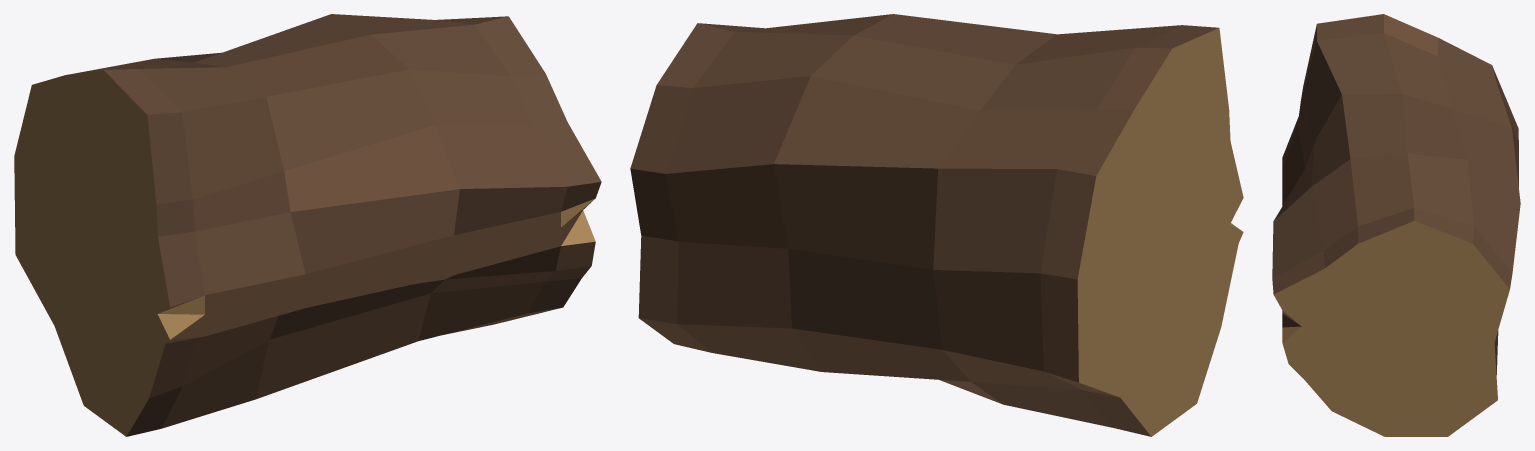
Rendered from rootfall-center.glb.
3 views of the same model, side by side, from view 1: azimuth 30°, elevation 25°; view 2: azimuth 150°, elevation 25°; view 3: azimuth 270°, elevation 25° (orthographic). The views are drawn at different scales.
Parts seen in each view (by area): view 1: rootfall-center; view 2: rootfall-center; view 3: rootfall-center.
Part boxes in pixels (left/top/right/bottom): rootfall-center: left=14, top=14, right=601, bottom=436; rootfall-center: left=630, top=14, right=1243, bottom=436; rootfall-center: left=1272, top=14, right=1520, bottom=436.
Bounding box in the file's own units: 3.3 × 2.6 × 2.2.
1 material, 1 textured.
